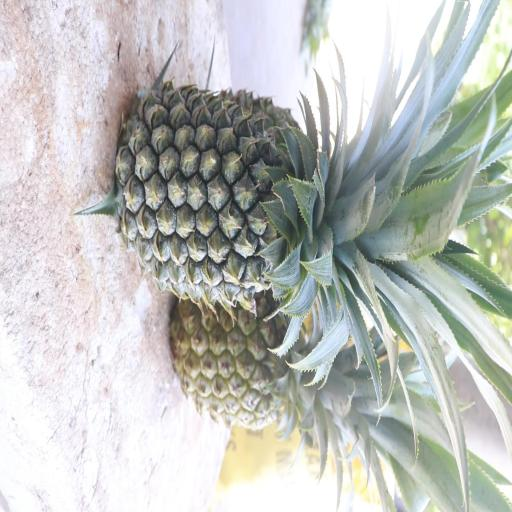------------------------------: (165, 255, 397, 434)
